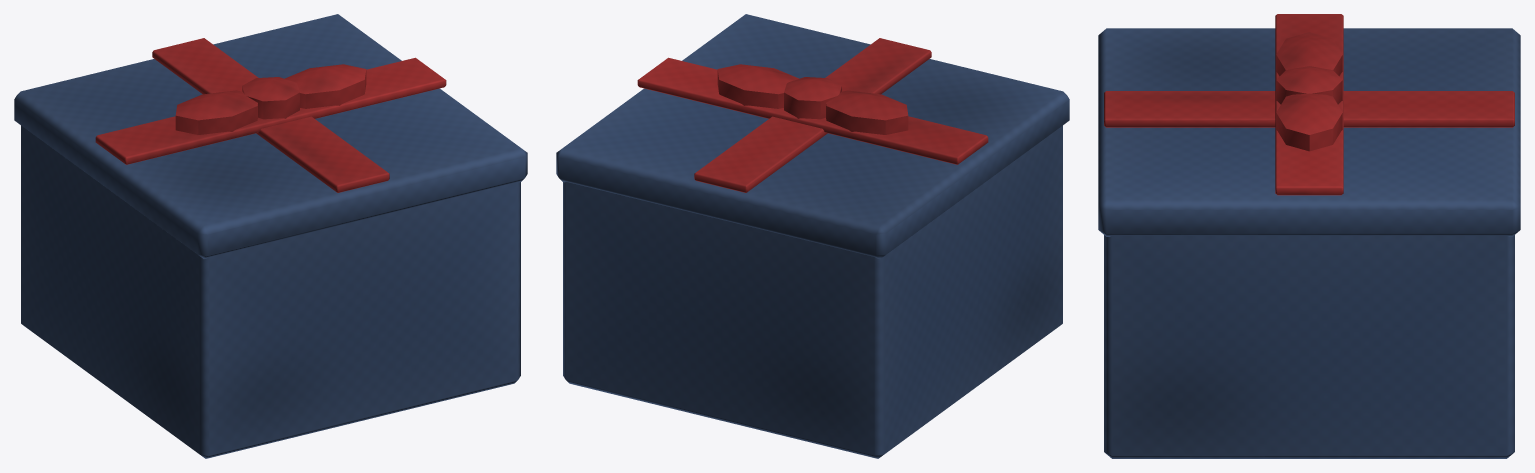
File: Hold_GiftBox.fbx
The picture shows the model from 3 angles, left to right: view 1: azimuth 30°, elevation 25°; view 2: azimuth 150°, elevation 25°; view 3: azimuth 270°, elevation 25°; orthographic projection. The views are drawn at different scales.
Visible parts, largest first — view 1: Hold_GiftBox; view 2: Hold_GiftBox; view 3: Hold_GiftBox.
Boxes of the visible parts, <box> form: Hold_GiftBox: <box>14,14,527,458</box>; Hold_GiftBox: <box>556,14,1069,458</box>; Hold_GiftBox: <box>1098,14,1520,458</box>.
Size of the model in its own units: 0.15 by 0.12 by 0.15.
1 material, 1 textured.
